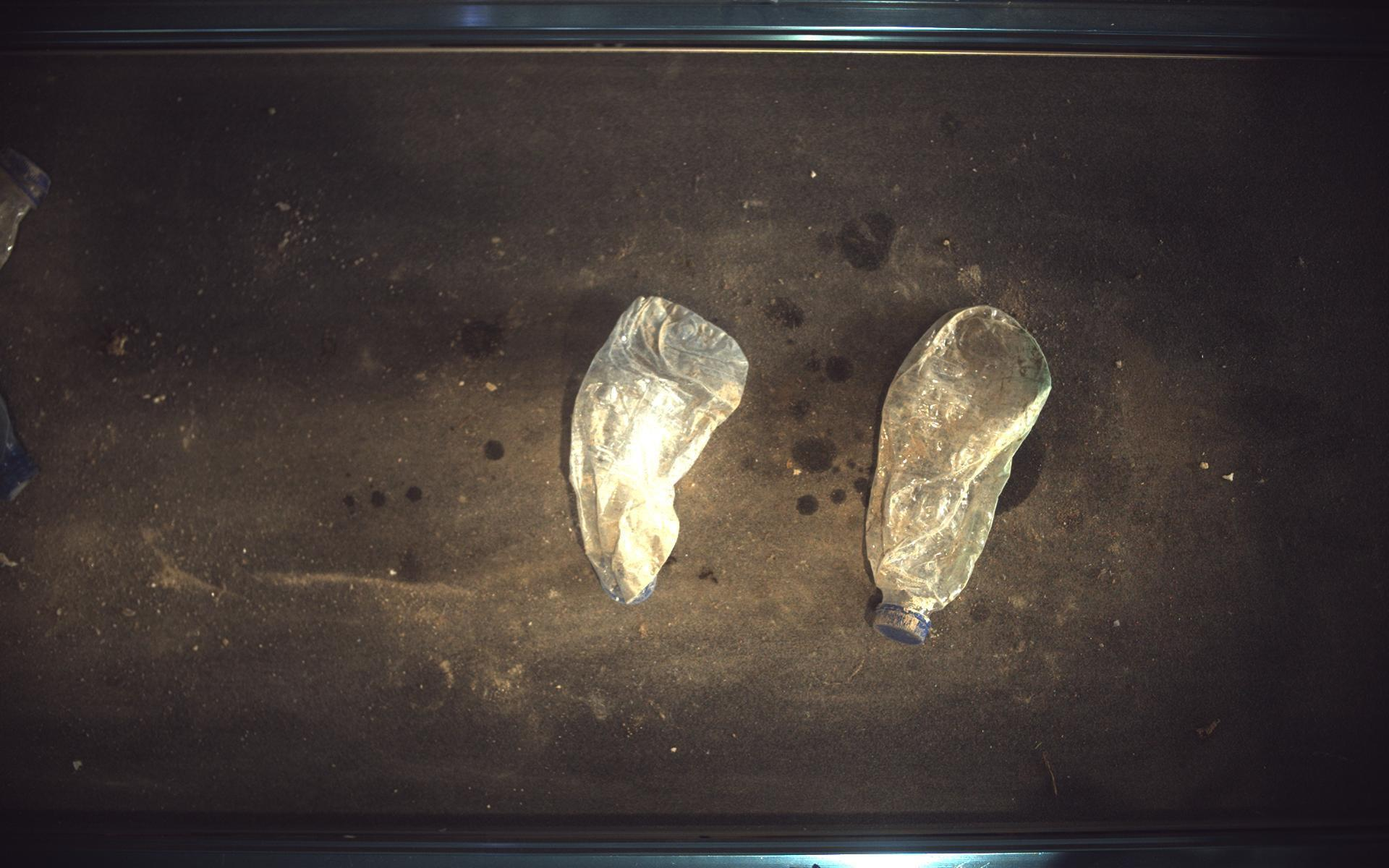general_w: (867, 306, 1053, 646), (570, 296, 749, 605)
